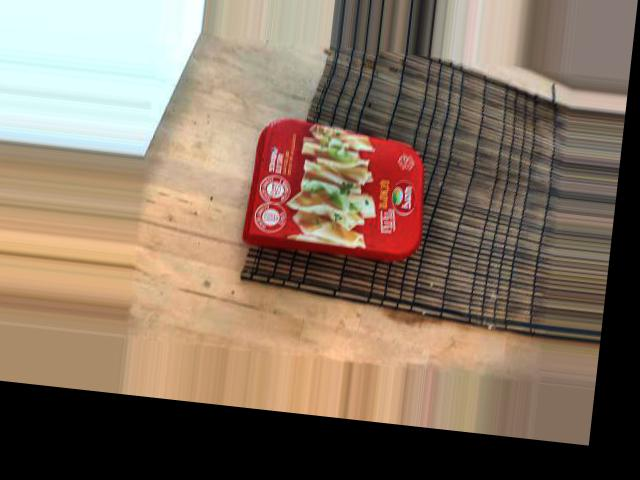cheese: (342, 37, 485, 242)
